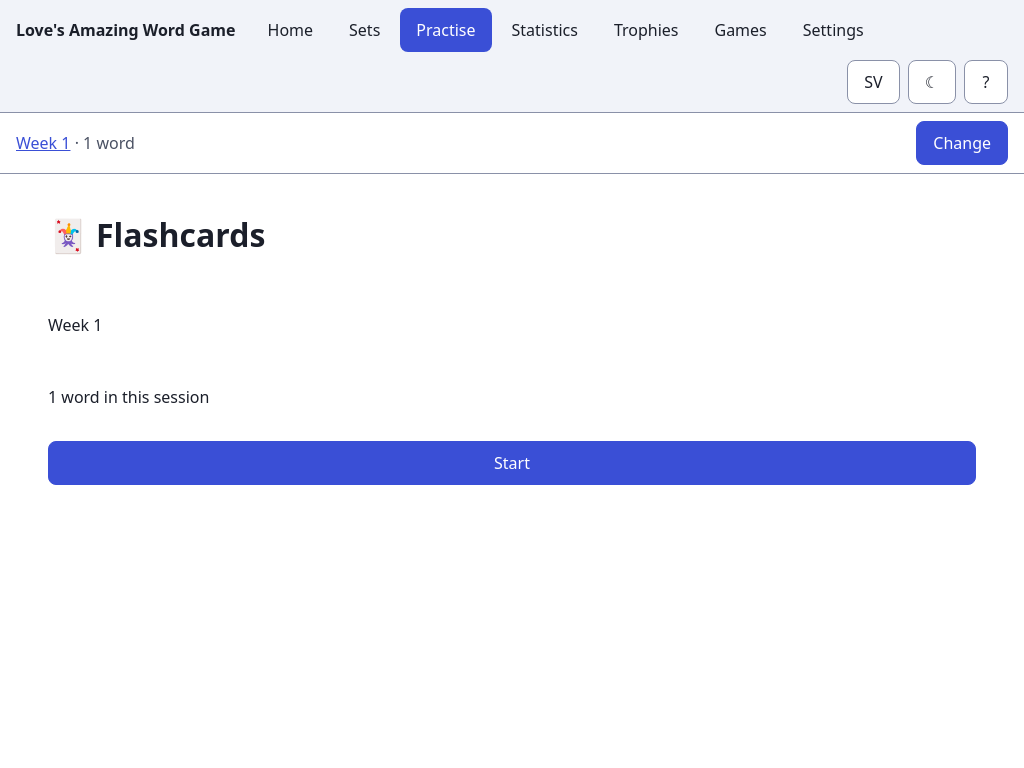
Test case: pronunciation › NH-2: does not read aloud on its own when the setting is off
The width and height of the screenshot is (1024, 768).
Click the button "Start" at (512, 463), box 48,441 -> 976,485
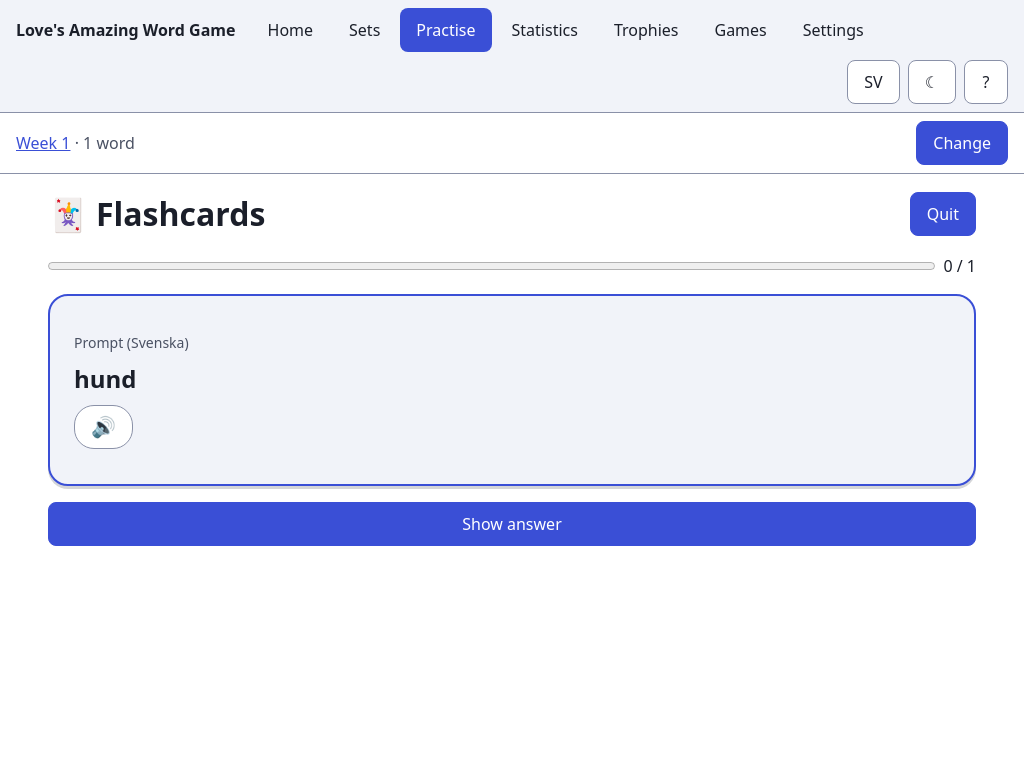
Result: the button named "Listen to hund" is shown at 74,404 -> 133,448
